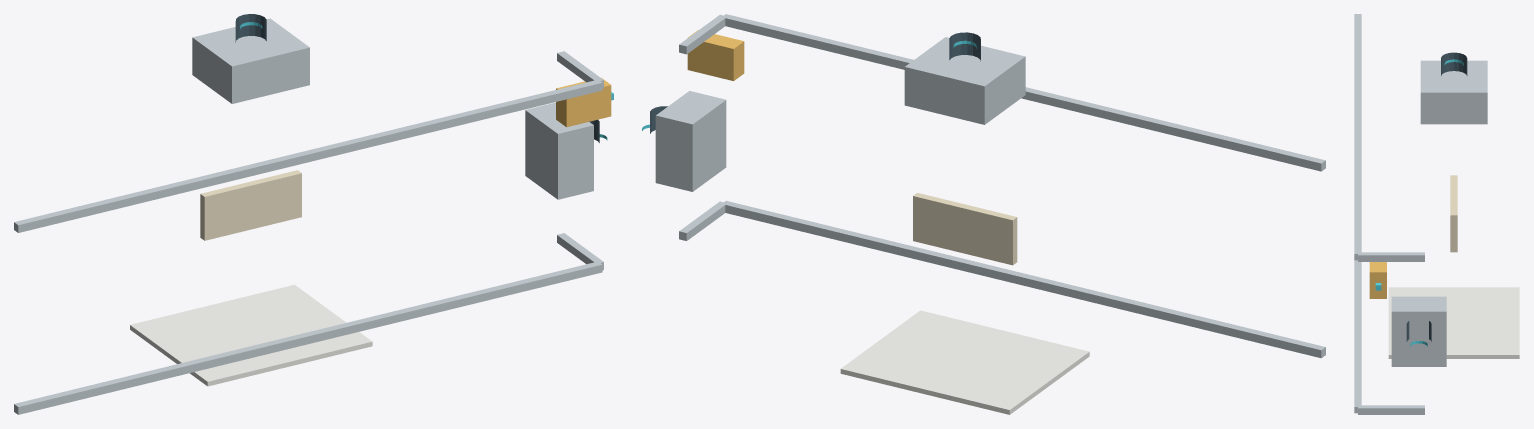
Rendered from BURST-LINK-optics.glb.
3 views of the same model, side by side, from view 1: azimuth 30°, elevation 25°; view 2: azimuth 150°, elevation 25°; view 3: azimuth 270°, elevation 25° (orthographic). The views are drawn at different scales.
Visible parts, largest first — view 1: metal, board, sample, amber, dark; view 2: metal, board, sample, amber, dark; view 3: metal, board, amber, sample, dark, cyan.
Boxes of the visible parts, x1,y1,x2,y2 form: metal: (14,18,603,414); board: (130,284,372,386); sample: (200,170,301,240); amber: (556,77,611,127); dark: (235,14,599,142); metal: (655,14,1325,358); board: (840,310,1089,414); sample: (913,193,1017,265); amber: (687,30,744,81); dark: (650,32,980,133); metal: (1354,14,1487,414); board: (1388,287,1519,358); amber: (1369,262,1386,298); sample: (1450,175,1457,252); dark: (1406,52,1467,341); cyan: (1375,59,1463,346).
Bounding box in the file's own units: 418 × 203 × 114.
